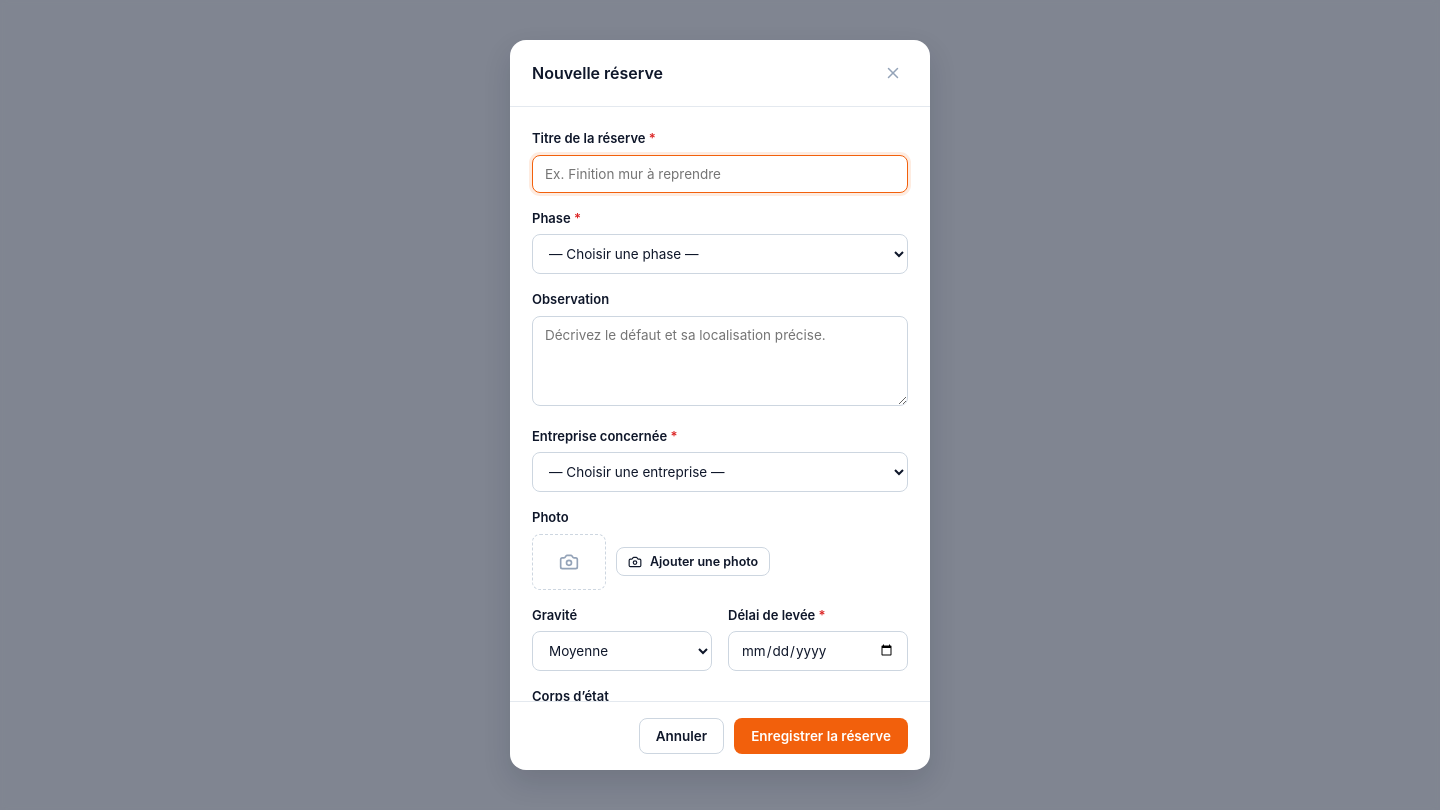
champs obligatoires › refuse une réserve sans ENTREPRISE — elle ne serait adressée à personne
The image size is (1440, 810).
Type "Fissure" into the field labelled "Titre de la réserve *" at (720, 174), box [532,154,908,192]
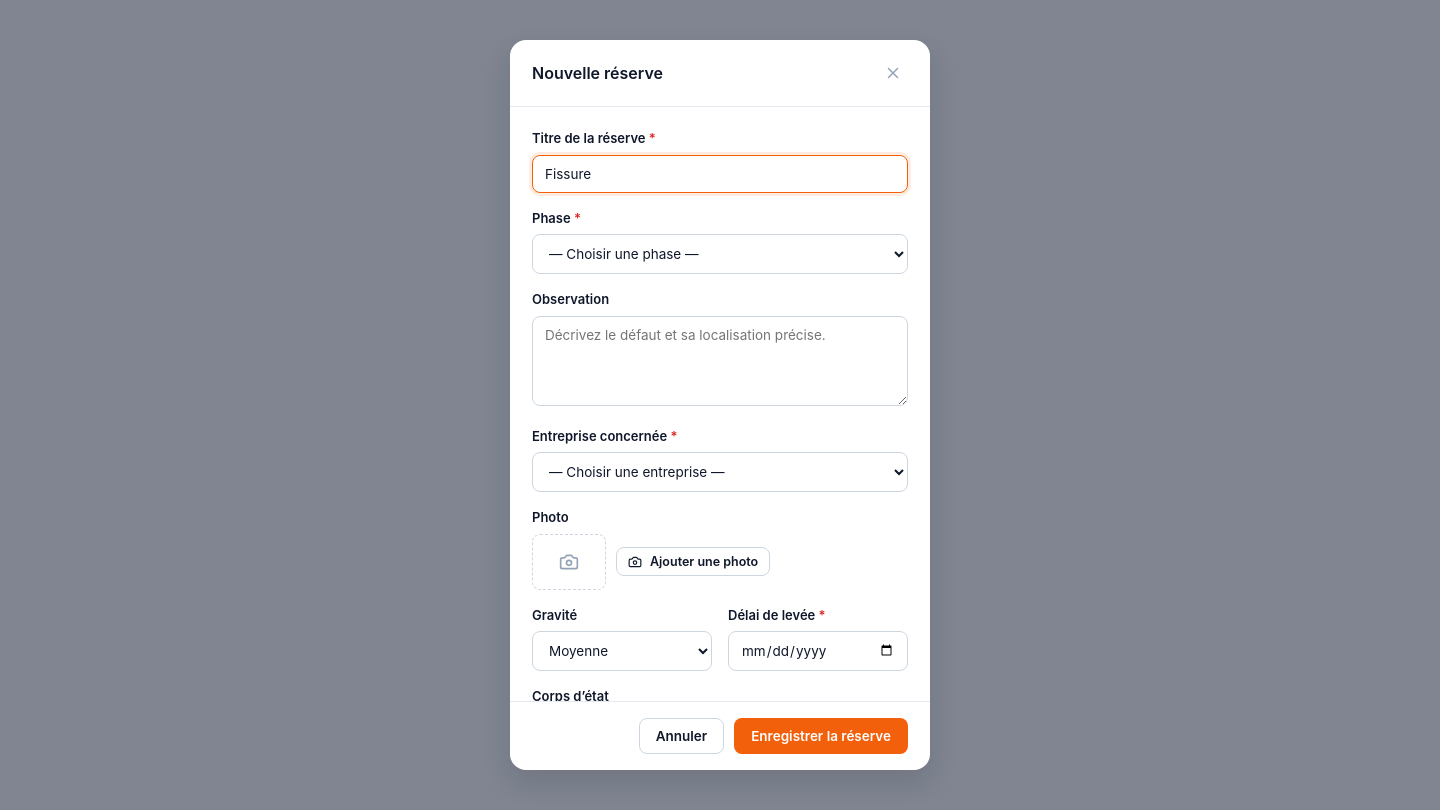
Select "Gros œuvre" in the dropdown labelled "Phase *" at (720, 254), box [532,234,908,274]
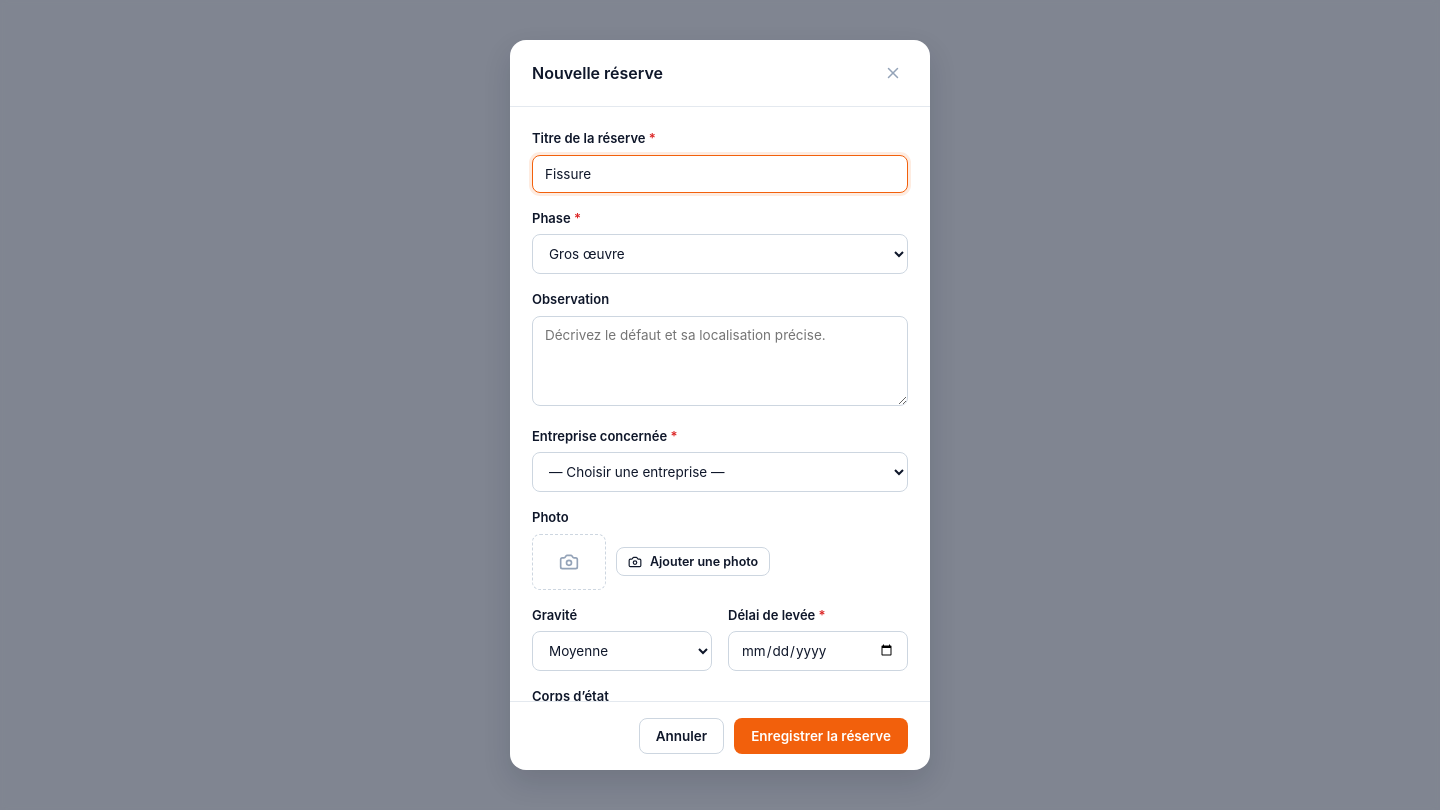
Type "2026-12-31" into the date field labelled "Délai de levée *" at (818, 651), box [728,631,908,671]
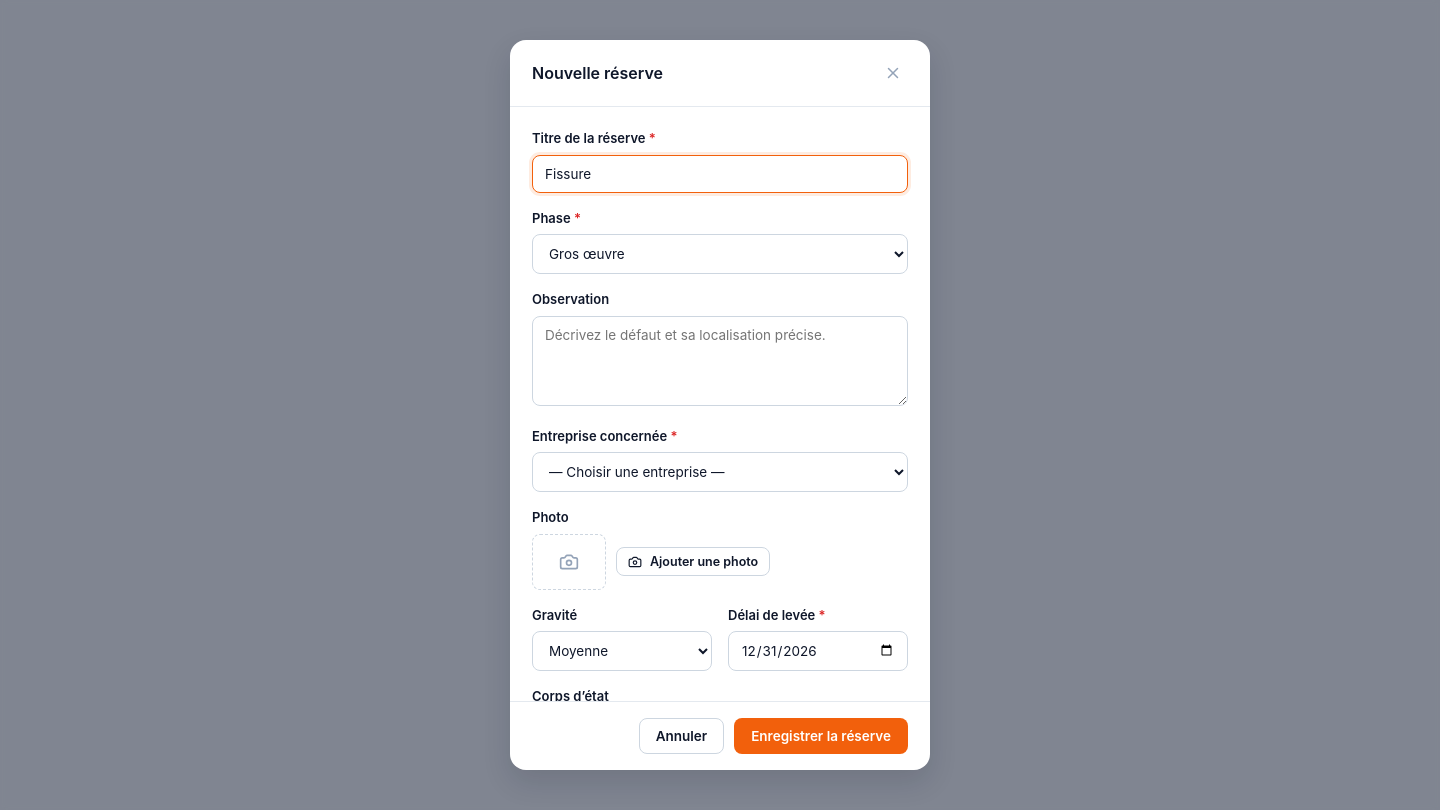
Click the button "Enregistrer la réserve" at (821, 736), box [734,718,908,754]
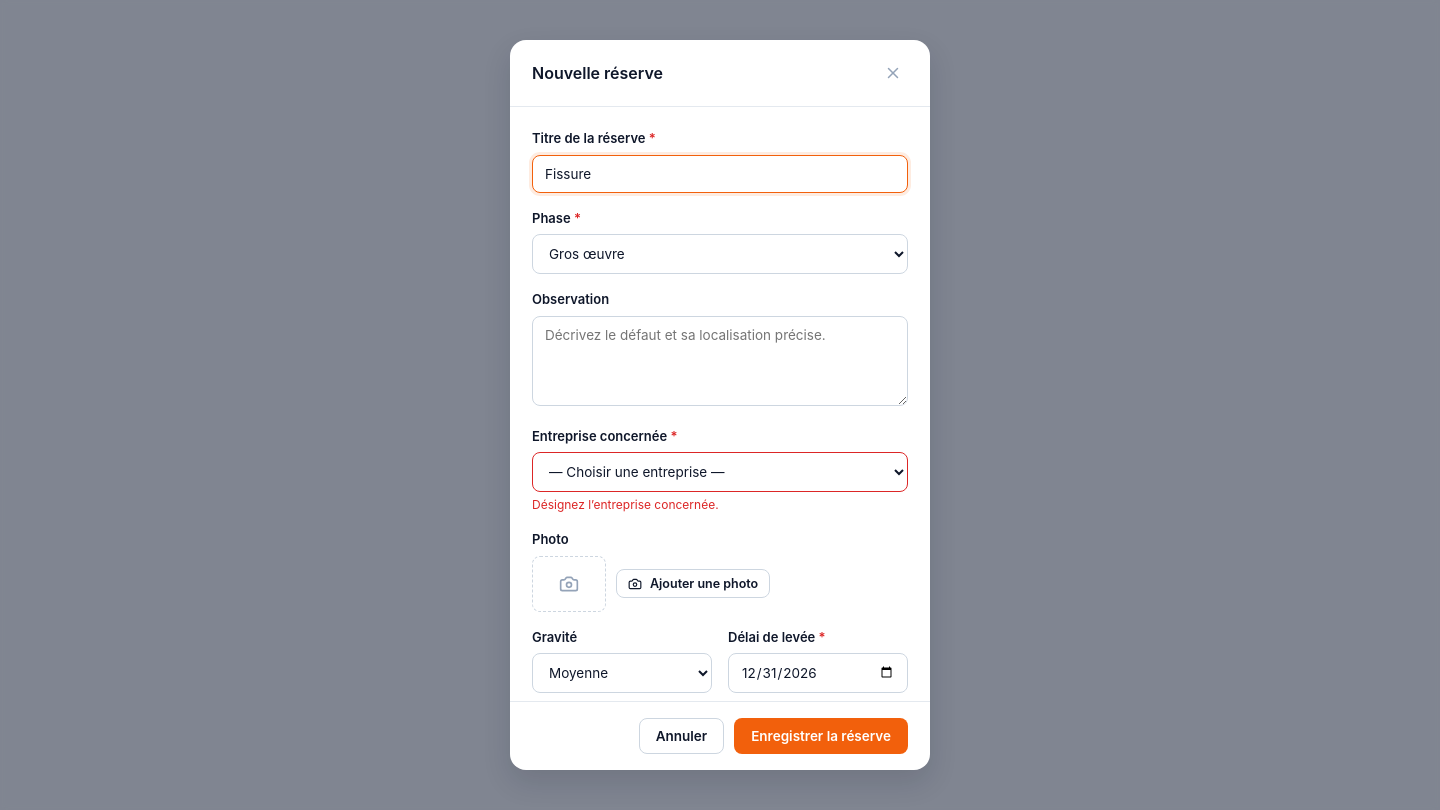
Expected: the text "Désignez l’entreprise concernée." is shown, [532,497,719,512]
